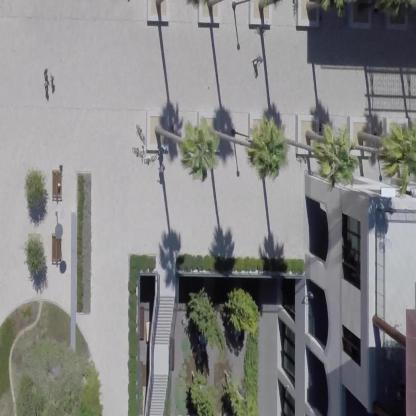Pedestrian: (251, 53, 264, 70), (158, 158, 168, 177), (156, 142, 167, 156), (44, 81, 53, 97), (51, 72, 58, 84), (42, 65, 49, 76)
